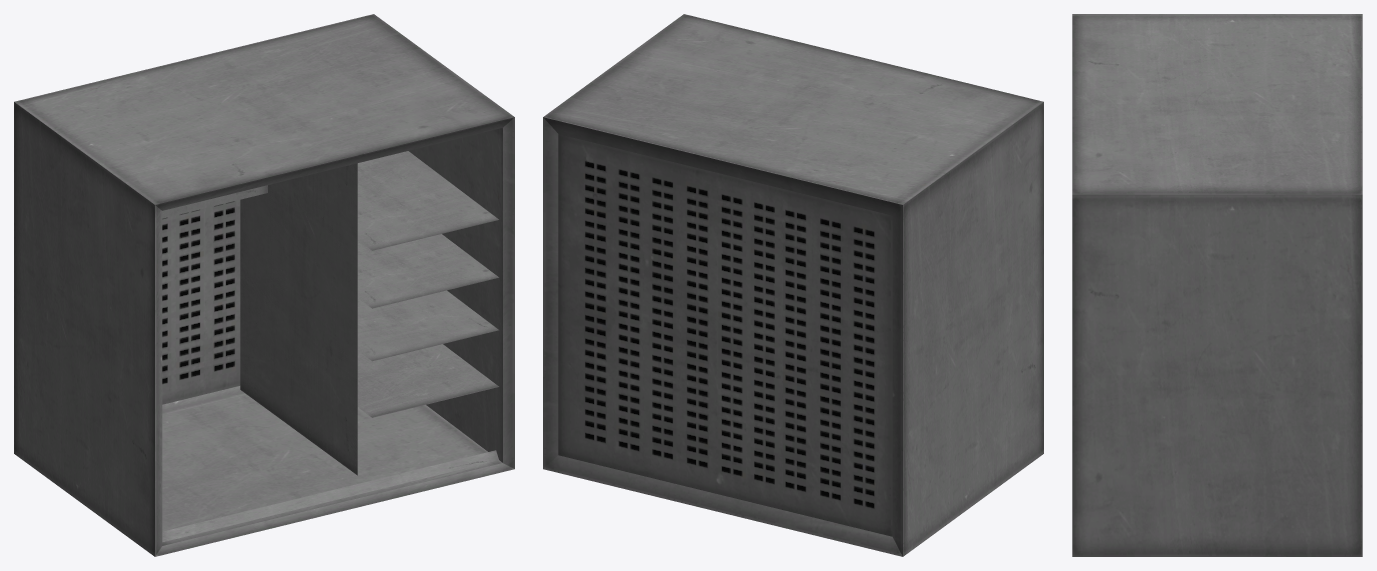
The model's file is ctl_locker_military_lod3.glb.
3 views of the same model, side by side, from view 1: azimuth 30°, elevation 25°; view 2: azimuth 150°, elevation 25°; view 3: azimuth 270°, elevation 25° (orthographic). The views are drawn at different scales.
Visible parts, largest first — view 1: surf1, surf0; view 2: surf1, surf0; view 3: surf1.
Boxes of the visible parts, <box> form: surf1: <box>14,14,514,556</box>; surf0: <box>162,200,240,404</box>; surf1: <box>543,14,1043,556</box>; surf0: <box>558,134,892,536</box>; surf1: <box>1072,14,1362,556</box>.
Bounding box in the file's own units: 42 × 39.25 × 28.5.
